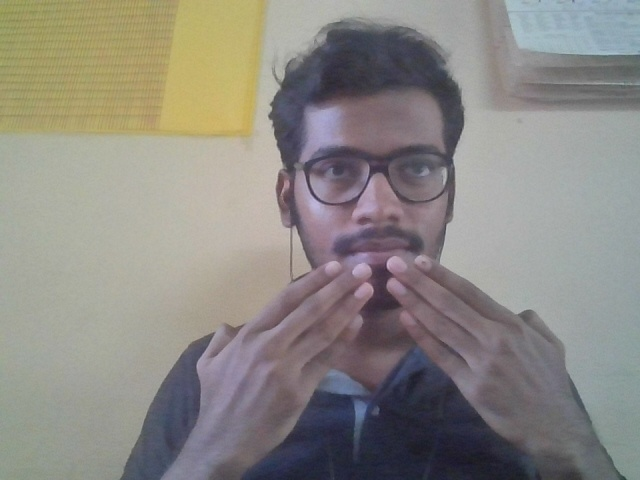ThankYou: (191, 256, 587, 434)
